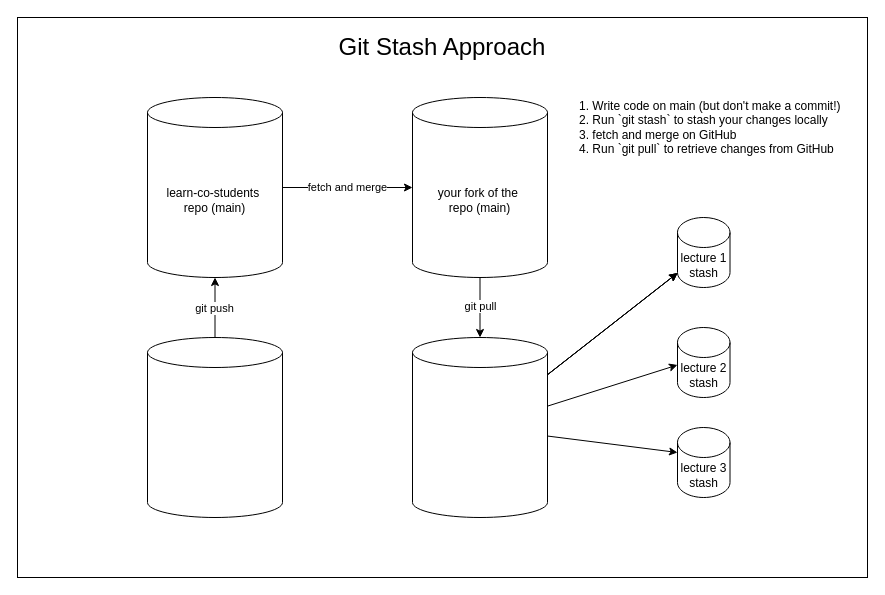
Image size: 885x595. Some labels were removed from this diagram. The shapes that lost their labels are listed below. From the top down, each one's centre as x and y in pixels, then its label:
[214,427]: my local copy of repo
[480,427]: your local copy of repo
